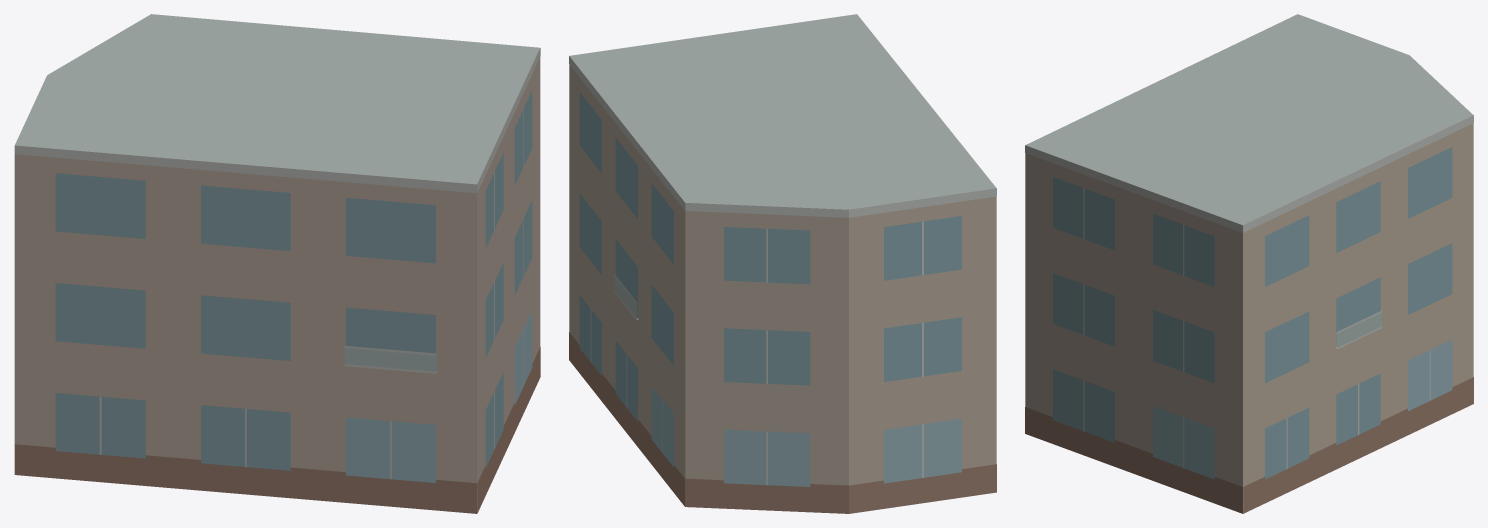
File: survey-upis-32722287.glb
3 views of the same model, side by side, from view 1: azimuth 30°, elevation 25°; view 2: azimuth 150°, elevation 25°; view 3: azimuth 270°, elevation 25° (orthographic). The views are drawn at different scales.
Parts seen in each view (by area): view 1: survey-upis-32722287.tmp; view 2: survey-upis-32722287.tmp; view 3: survey-upis-32722287.tmp.
Part boxes in pixels (x1,y1,x2,y2): survey-upis-32722287.tmp: (14, 14, 540, 513); survey-upis-32722287.tmp: (569, 14, 996, 513); survey-upis-32722287.tmp: (1025, 14, 1473, 513).
Size of the model in its own units: 14.38 by 9.15 by 12.9.
